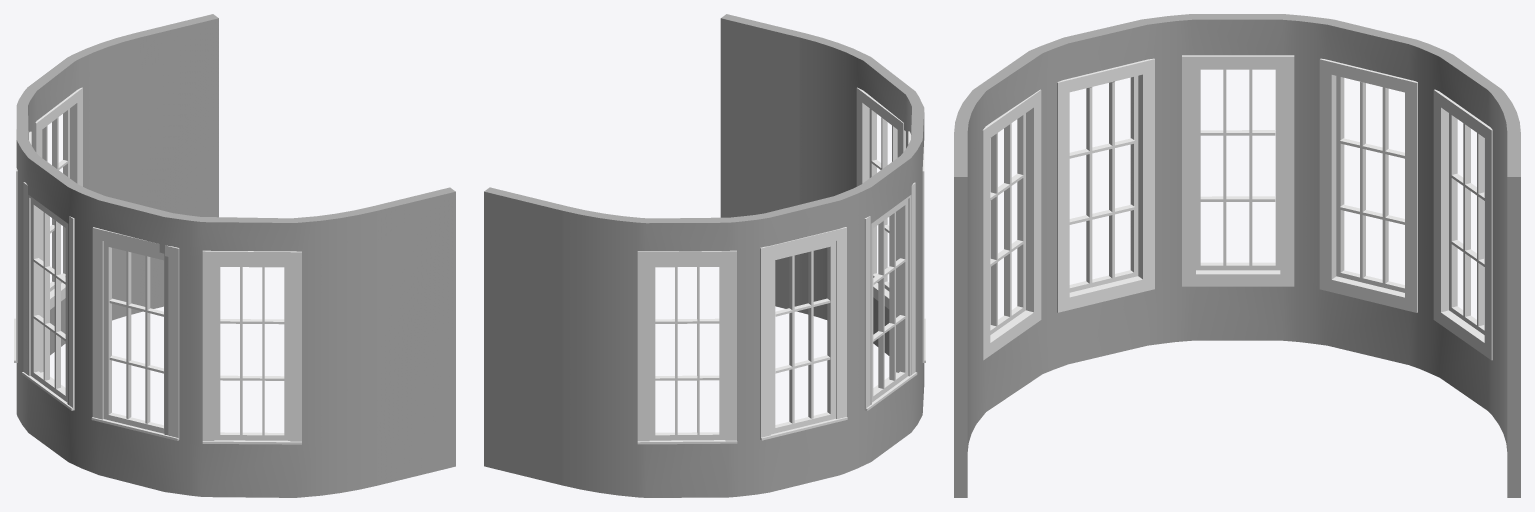
Rendered from CircleWallUV.fbx.
3 views of the same model, side by side, from view 1: azimuth 30°, elevation 25°; view 2: azimuth 150°, elevation 25°; view 3: azimuth 270°, elevation 25° (orthographic). The views are drawn at different scales.
Visible parts, largest first — view 1: polySurface17; view 2: polySurface17; view 3: polySurface17.
Boxes of the visible parts, x1,y1,x2,y2 form: polySurface17: (14, 14, 455, 497); polySurface17: (484, 14, 925, 497); polySurface17: (954, 14, 1520, 497).
Bounding box in the file's own units: 699 × 639 × 1022.
